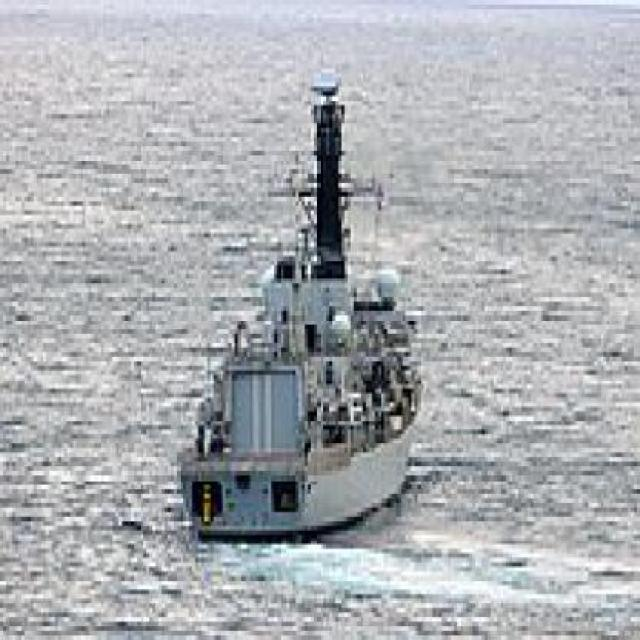warship2: (193, 56, 434, 545)
